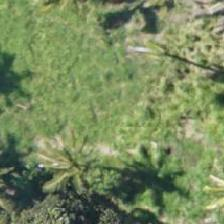coconut_tree: (31, 133, 121, 223)
